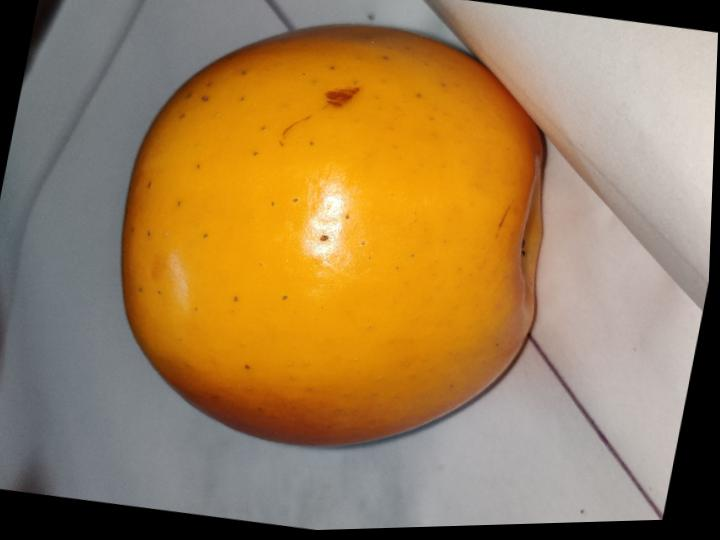apple: (122, 25, 541, 444)
surface_damage: (325, 87, 359, 106)
